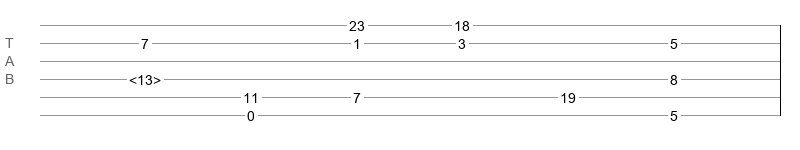0: (247, 108, 255, 118)
1: (353, 36, 361, 46)
11: (243, 90, 259, 100)
18: (454, 18, 470, 28)
19: (560, 90, 576, 100)
23: (349, 18, 365, 28)
3: (458, 36, 466, 46)
5: (670, 36, 678, 46), (670, 108, 678, 118)
7: (141, 36, 149, 46), (353, 90, 361, 100)
8: (670, 72, 678, 82)
harmonic: (129, 72, 161, 82)
